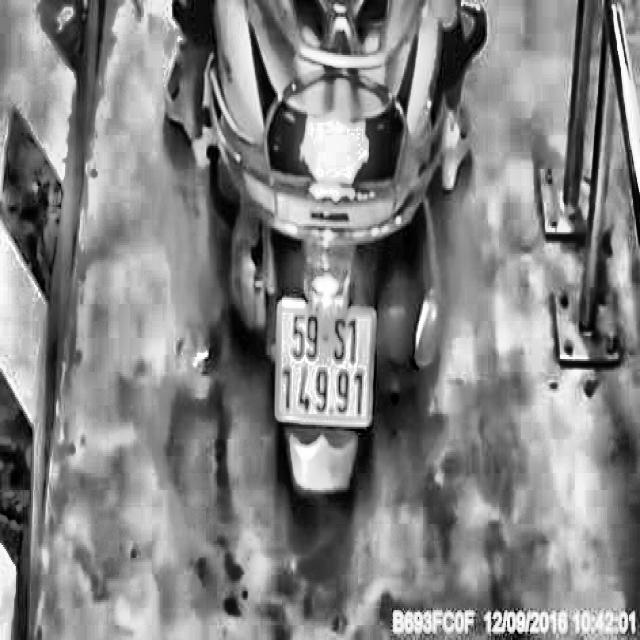plate: (272, 290, 378, 435)
